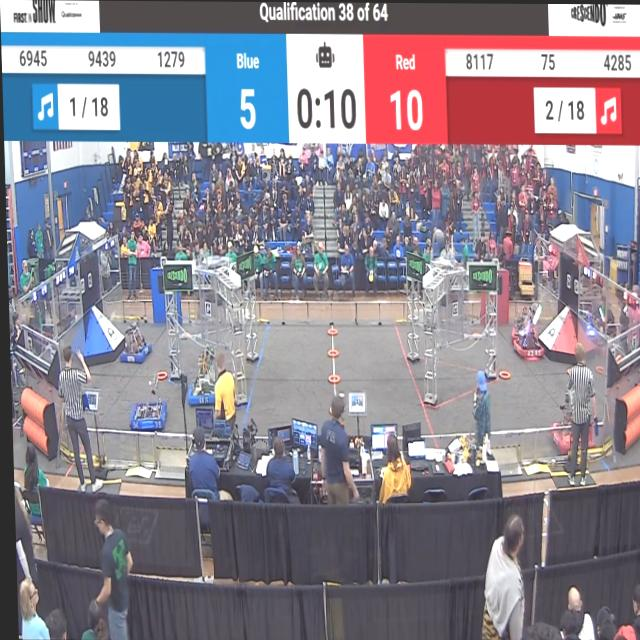Robot: (545, 351, 594, 462), (123, 371, 169, 433), (507, 306, 543, 365), (184, 344, 212, 409), (118, 314, 152, 367), (508, 294, 541, 346)
